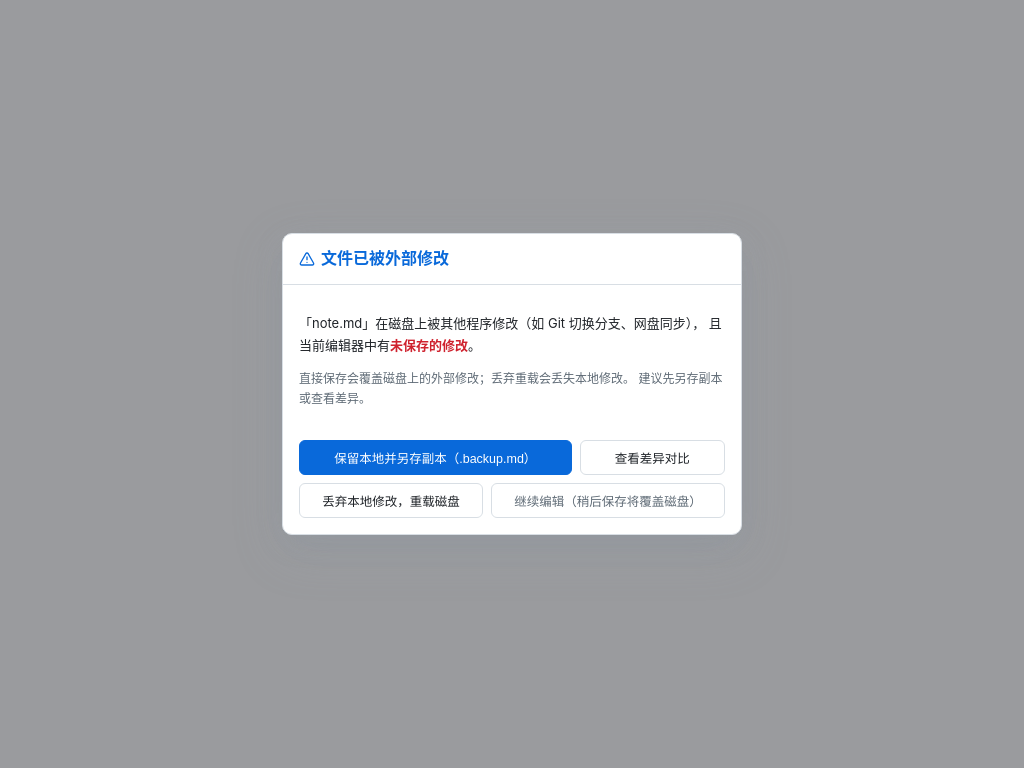
Test: ConflictDialog › 查看差异：显示行级 diff 与差异计数
Click the button "查看差异对比". click: (652, 457)
box: [580,440,725,475]
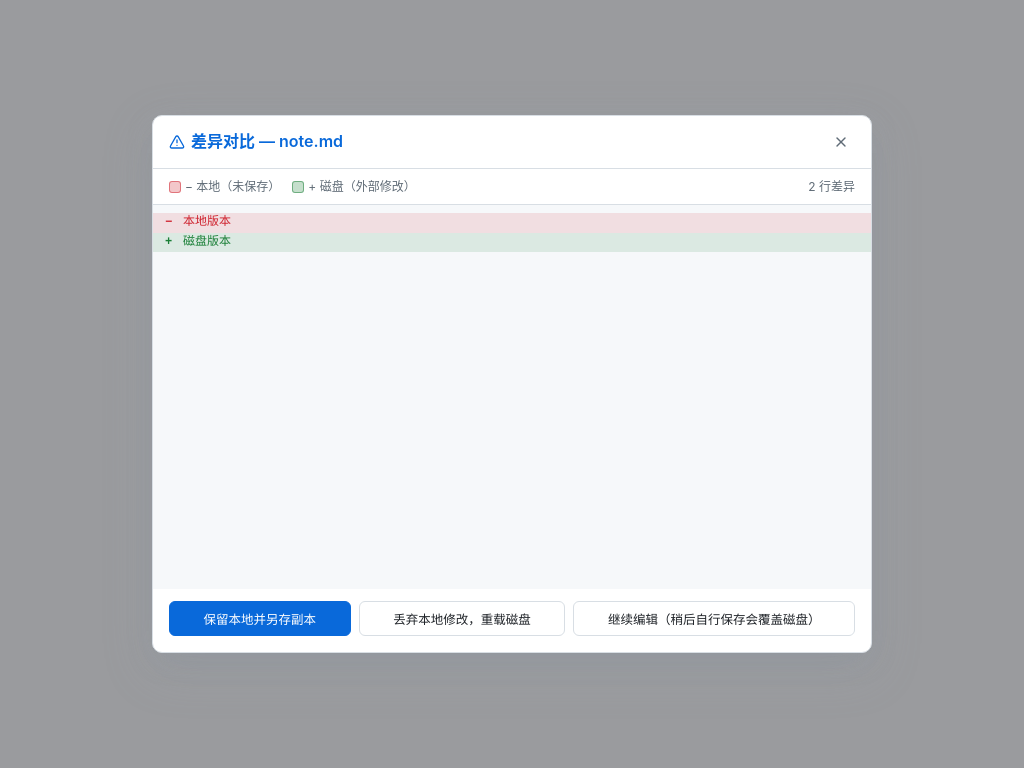
Expected: the text "差异对比 — note.md" is shown, [169,129,343,155]
Expected: the text "2 行差异" is shown, [808,177,855,196]
Expected: the text "本地版本" is shown, [183,215,231,229]
